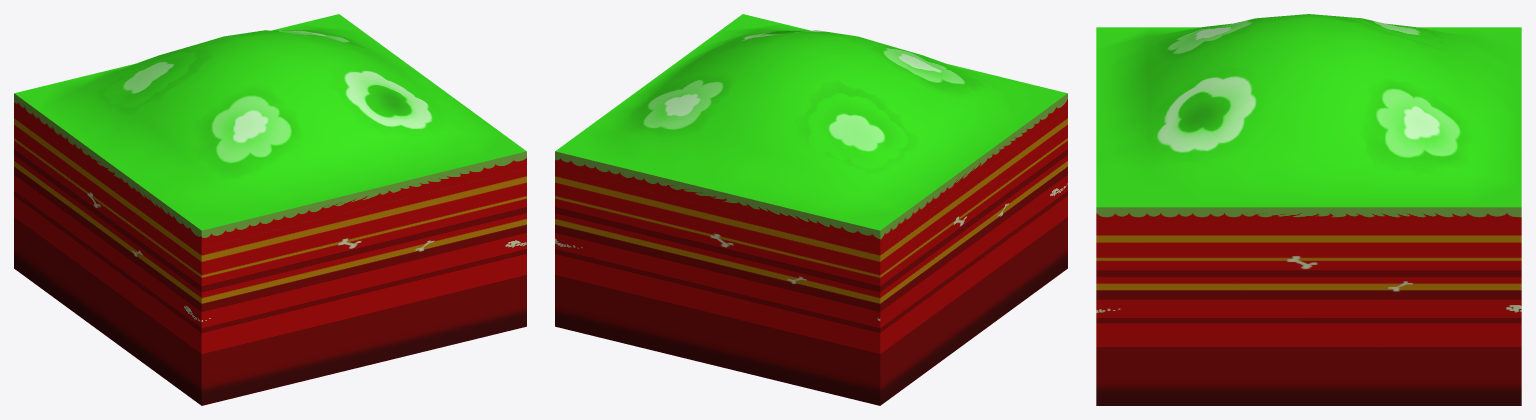
Rendered from block_rect_curved_2x2.obj.
3 views of the same model, side by side, from view 1: azimuth 30°, elevation 25°; view 2: azimuth 150°, elevation 25°; view 3: azimuth 270°, elevation 25° (orthographic). The views are drawn at different scales.
Parts seen in each view (by area): view 1: polySurface5 polySurface8, polySurface5 polySurface7, polySurface6 polySurface5; view 2: polySurface5 polySurface8, polySurface5 polySurface7, polySurface6 polySurface5; view 3: polySurface5 polySurface7, polySurface5 polySurface8, polySurface6 polySurface5.
Part boxes in pixels (<box>): polySurface5 polySurface8: <box>14,111,526,405</box>; polySurface5 polySurface7: <box>14,14,526,230</box>; polySurface6 polySurface5: <box>14,93,526,247</box>; polySurface5 polySurface8: <box>555,111,1067,405</box>; polySurface5 polySurface7: <box>555,14,1067,230</box>; polySurface6 polySurface5: <box>555,93,1067,247</box>; polySurface5 polySurface7: <box>1096,14,1521,207</box>; polySurface5 polySurface8: <box>1096,227,1521,405</box>; polySurface6 polySurface5: <box>1096,207,1521,226</box>.
Bounding box in the file's own units: 400 × 293 × 400.
